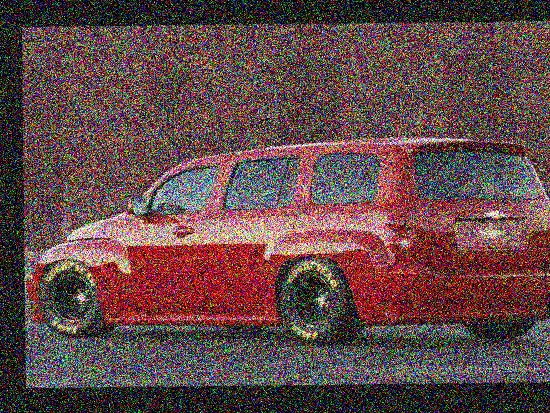car: (24, 125, 550, 360)
